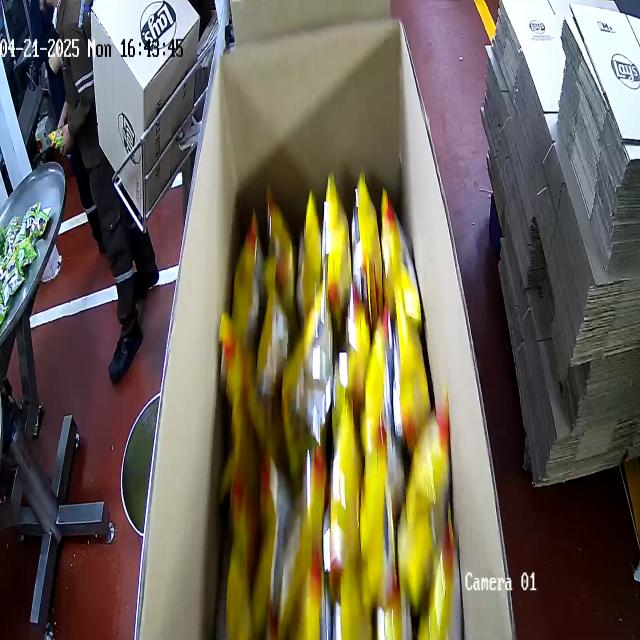SALTED: (212, 167, 462, 640)
